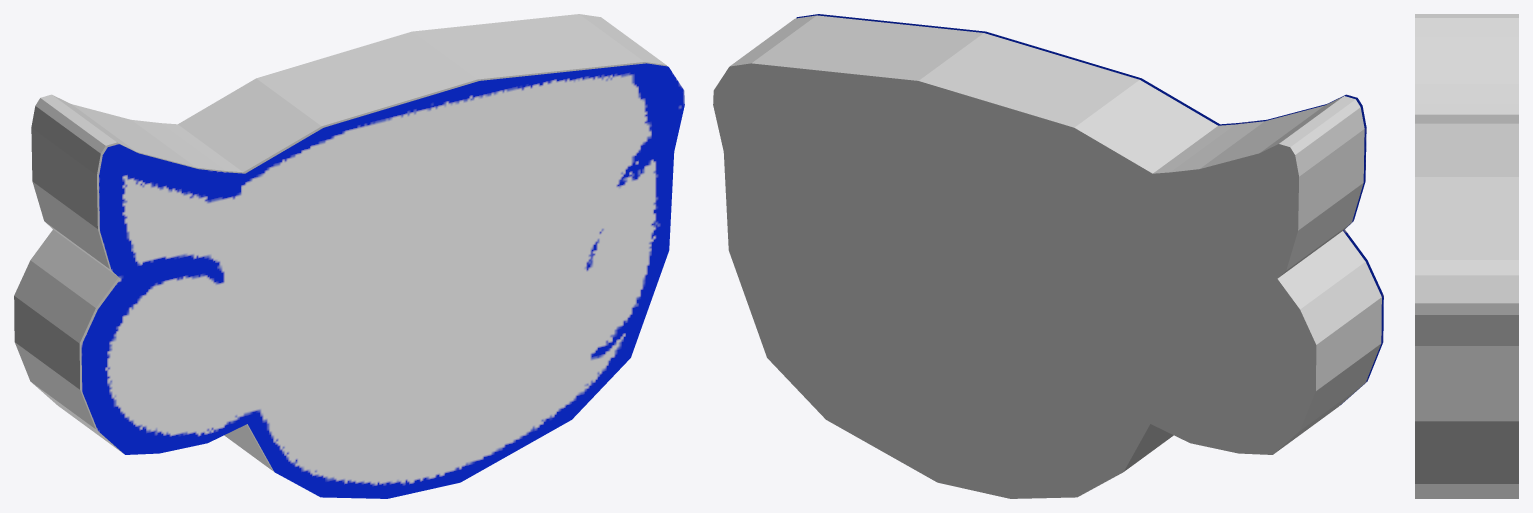
3 views of the same model, side by side, from view 1: azimuth 30°, elevation 25°; view 2: azimuth 150°, elevation 25°; view 3: azimuth 270°, elevation 25° (orthographic). The views are drawn at different scales.
Parts seen in each view (by area): view 1: In_2_1, In_2_0; view 2: In_2_0, In_2_1; view 3: In_2_0.
Part boxes in pixels (box(x1,y1,x2,y2)): In_2_1: box(81, 63, 684, 498); In_2_0: box(14, 14, 666, 471); In_2_0: box(713, 15, 1381, 498); In_2_1: box(796, 14, 1383, 405); In_2_0: box(1415, 14, 1518, 498).
Bounding box in the file's own units: 2.66 × 1.78 × 0.515.
Materials: 2 (1 with a texture image).
